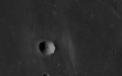crater: (7, 18, 90, 64)
